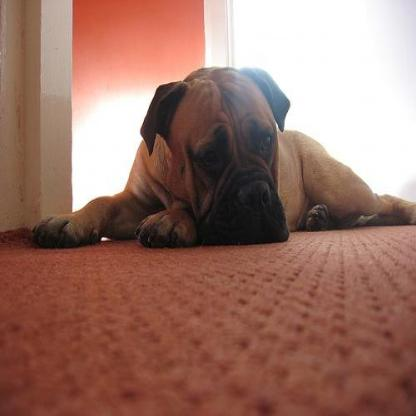bull_mastiff: (32, 62, 414, 243)
